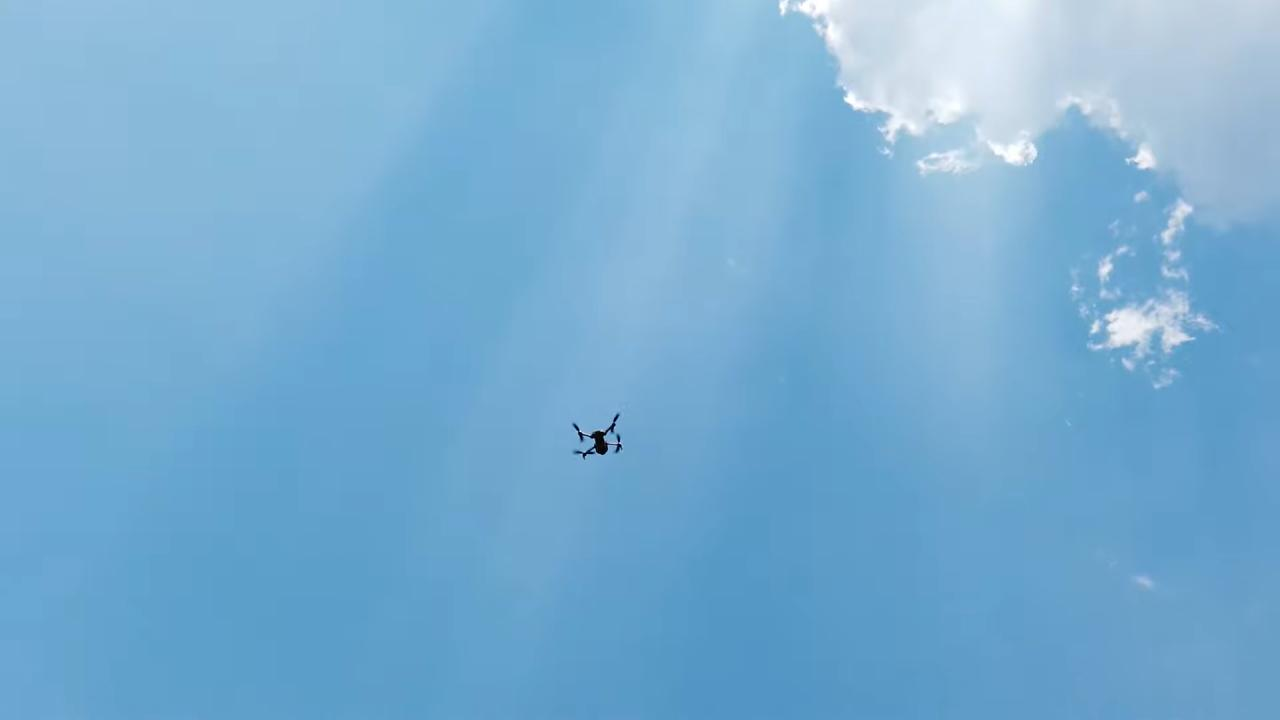Drone: (561, 405, 637, 467)
